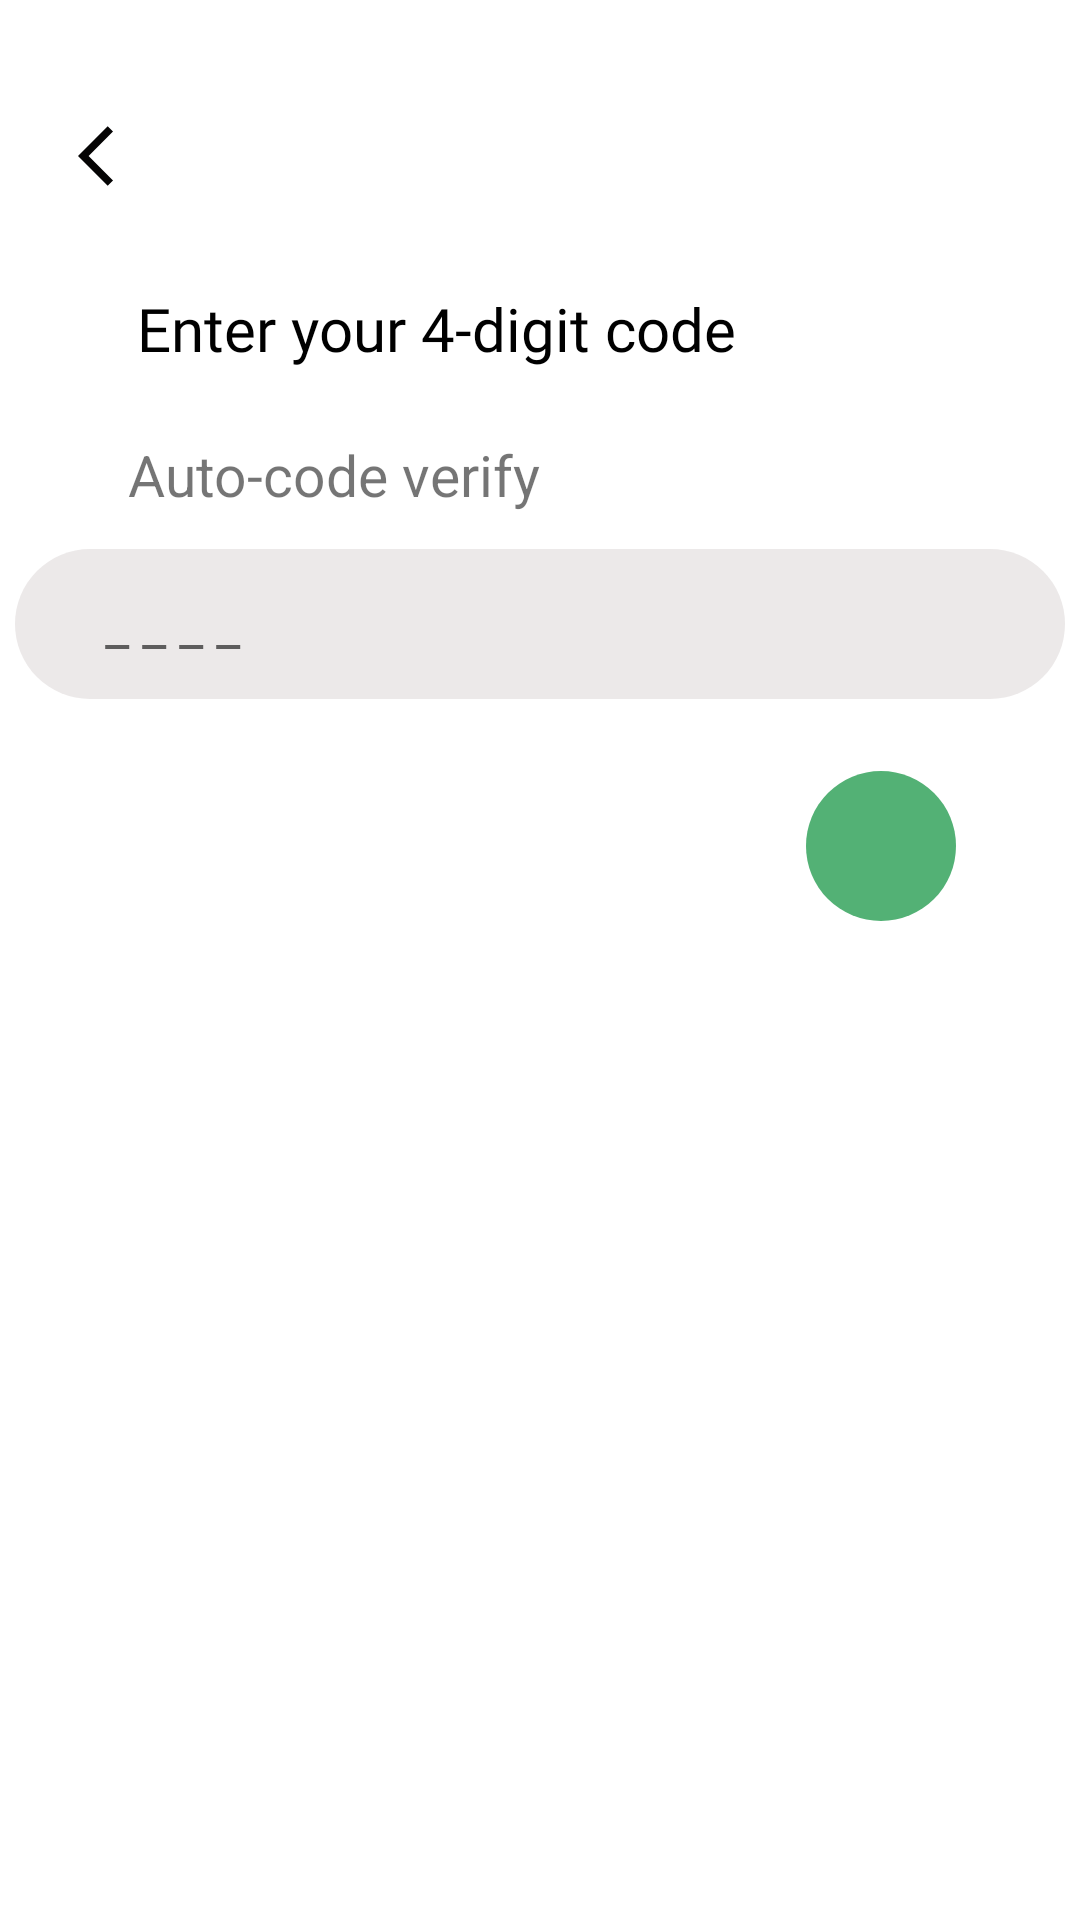

Icons on this 1080px×1920px Android screen, each with its box as detection(x1, y1, x2, y2):
arrow back: detection(78, 126, 113, 186)
